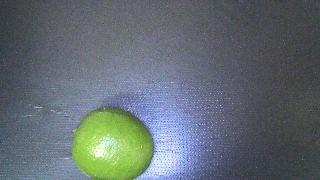EXPORTACION: (71, 107, 154, 180)
